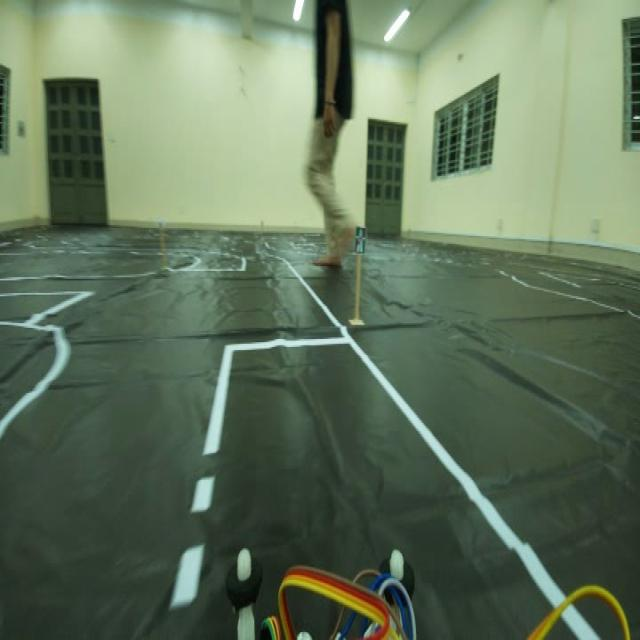highway_exit: (352, 224, 370, 258)
